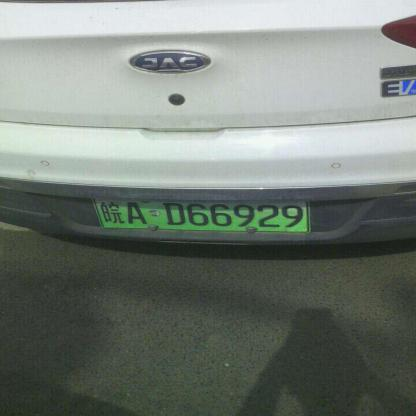lp: (95, 198, 308, 229)
